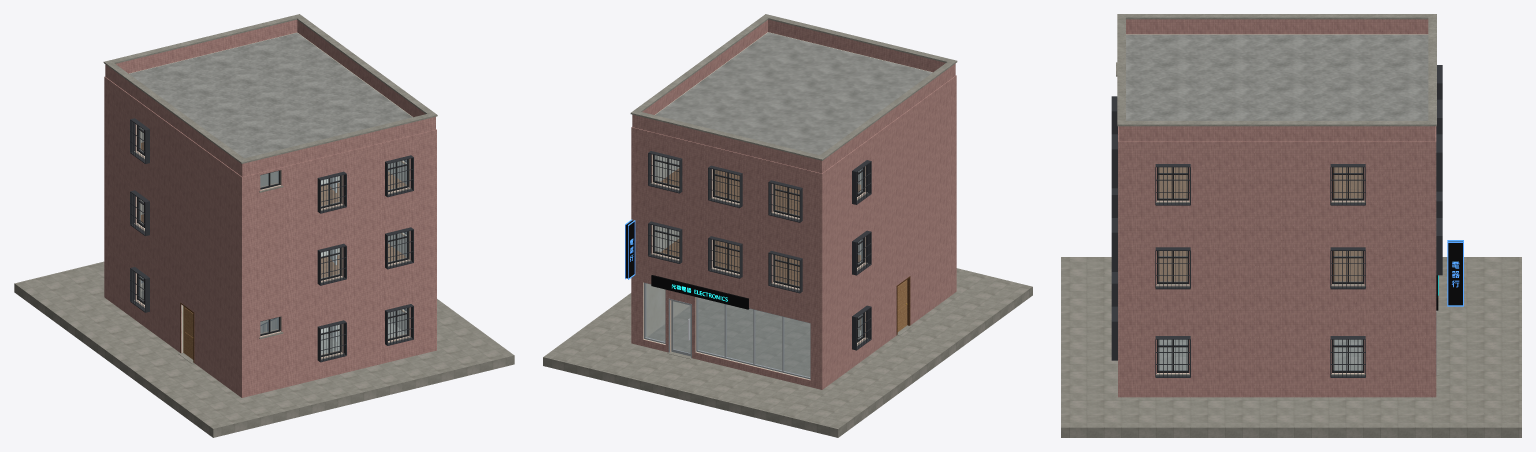
Rendered from b_electronics_shop.gltf.
3 views of the same model, side by side, from view 1: azimuth 30°, elevation 25°; view 2: azimuth 150°, elevation 25°; view 3: azimuth 270°, elevation 25° (orthographic). The views are drawn at different scales.
Parts seen in each view (by area): view 1: S_electronics_shop, D_electronics_shop_F1_E1_Door0; view 2: S_electronics_shop, D_electronics_shop_F1_S2_Door0, D_electronics_shop_F1_E1_Door0; view 3: S_electronics_shop.
Part boxes in pixels (box(x1,y1,x2,y2)): S_electronics_shop: box(14, 14, 514, 437); D_electronics_shop_F1_E1_Door0: box(183, 306, 193, 359); S_electronics_shop: box(543, 14, 1032, 437); D_electronics_shop_F1_S2_Door0: box(671, 300, 690, 356); D_electronics_shop_F1_E1_Door0: box(897, 280, 907, 331); S_electronics_shop: box(1061, 14, 1521, 437).
Bounding box in the file's own units: 14 × 10.86 × 16.
21 materials, 10 textured.
